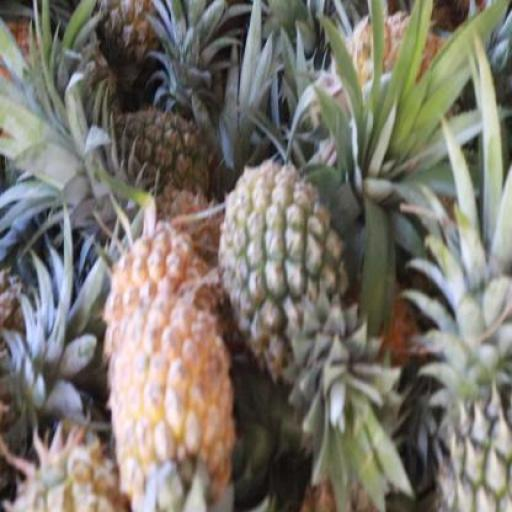------------------------------: (214, 162, 342, 360)
Pineapple - v8 v1: (105, 302, 238, 508)
